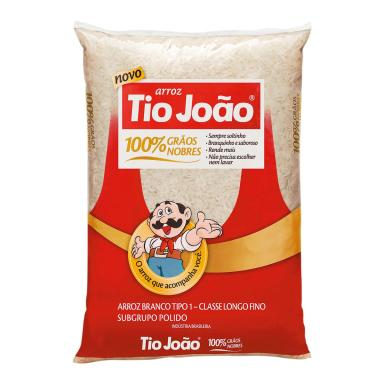rice package: (75, 24, 310, 362)
